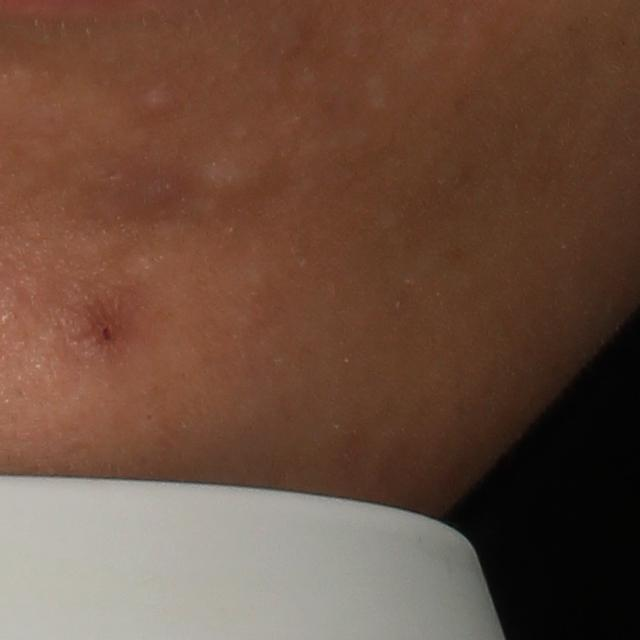comedo: (142, 82, 176, 120)
hypertrophic_scar: (185, 144, 282, 199), (359, 66, 398, 119)
